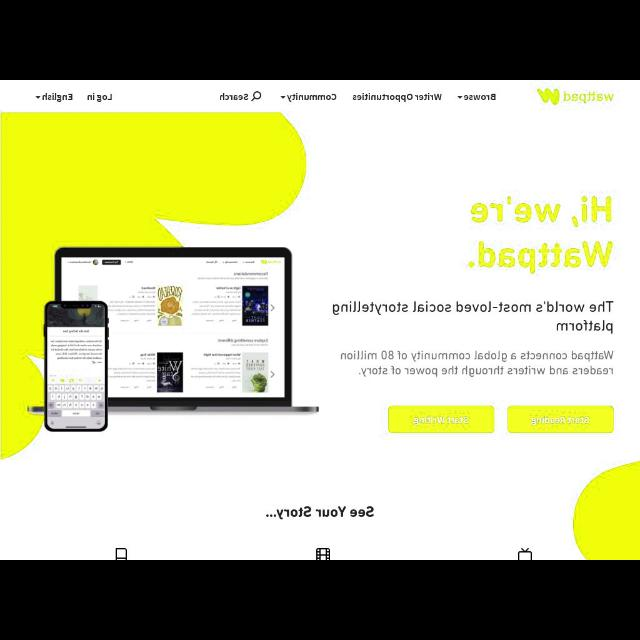backgroundimage: (1, 113, 326, 461)
icon: (114, 547, 130, 559), (518, 548, 534, 558), (316, 548, 330, 558), (250, 91, 262, 101), (280, 95, 286, 98), (36, 96, 40, 100), (458, 95, 462, 98)
image: (536, 87, 614, 105)
spinner: (280, 93, 336, 103), (35, 93, 73, 103), (458, 94, 497, 100)
text: (464, 194, 614, 276), (332, 298, 614, 334), (338, 347, 616, 379), (264, 505, 374, 521), (352, 93, 442, 101), (529, 416, 589, 426), (412, 416, 470, 426), (286, 94, 338, 102), (42, 93, 72, 103), (86, 93, 112, 103), (464, 94, 496, 100), (219, 94, 249, 100)
textbutton: (508, 406, 614, 434), (388, 406, 494, 432)
toolbar: (1, 80, 639, 112)
